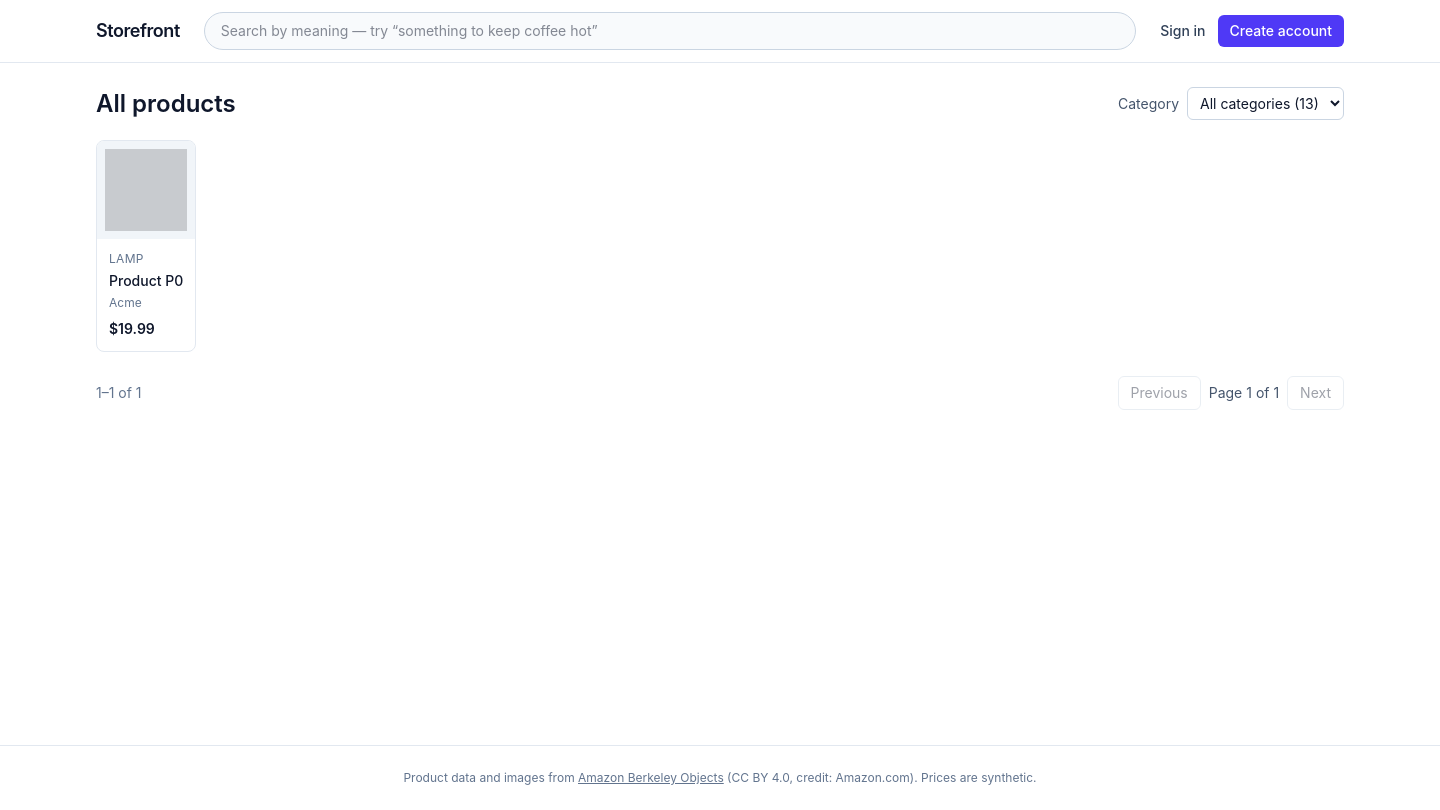
it: catalog page › filters by category from the select
expect the header is shown: met, box [0,0,1439,63]
Select "Rug (5)" in the dropdown labelled "Category" at (1266, 104), box [1187,87,1344,120]
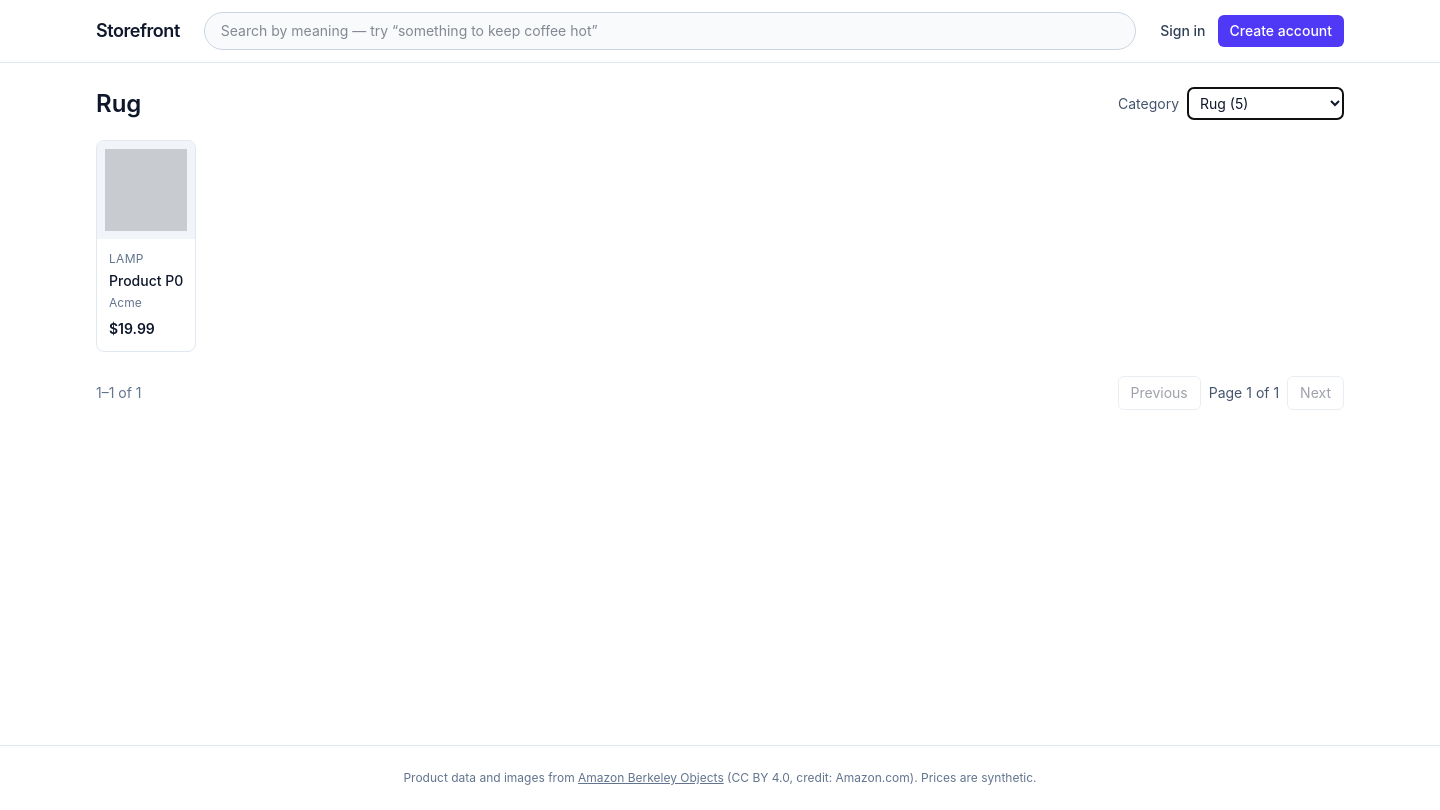
expect the heading "Rug" is shown: met, box [96,88,141,120]
